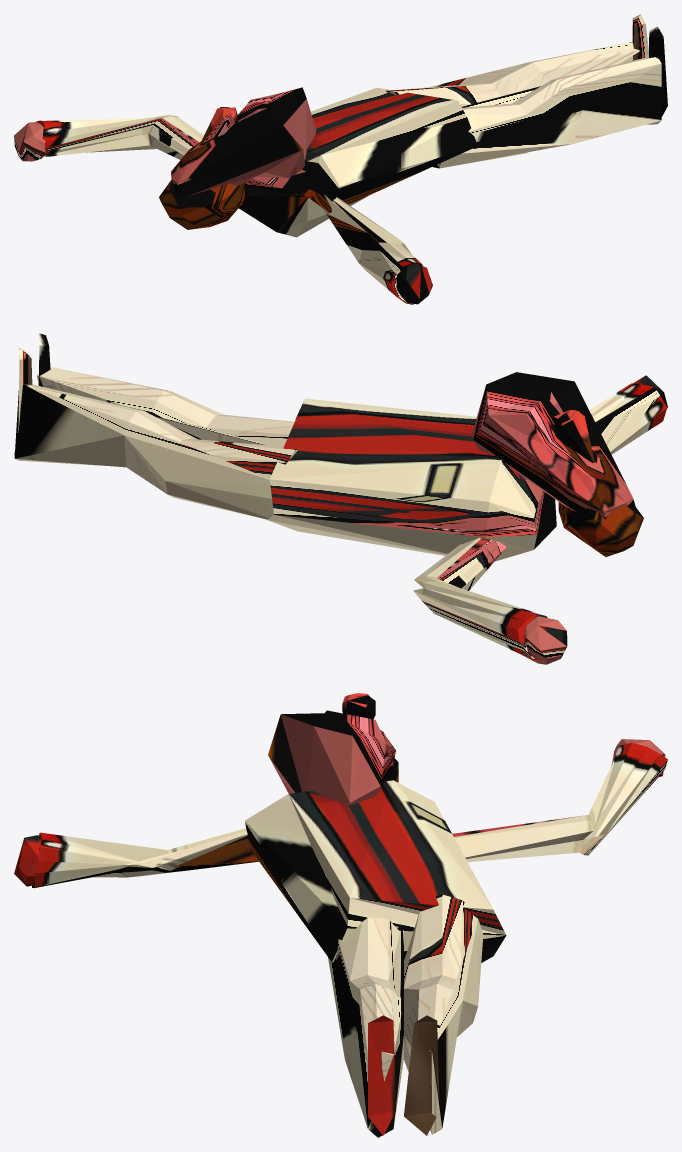
The model's file is NannSlp.glb.
The picture shows the model from 3 angles, top to bottom: view 1: azimuth 30°, elevation 25°; view 2: azimuth 150°, elevation 25°; view 3: azimuth 270°, elevation 25°; orthographic projection. The views are drawn at different scales.
Parts seen in each view (by area): view 1: NannSlp; view 2: NannSlp; view 3: NannSlp.
Part boxes in pixels (bbox=[...]): NannSlp: bbox=[14, 14, 667, 304]; NannSlp: bbox=[14, 333, 667, 664]; NannSlp: bbox=[14, 693, 667, 1137].
Bounding box in the file's own units: 306 × 76.88 × 245.
Materials: 1 (1 with a texture image).
